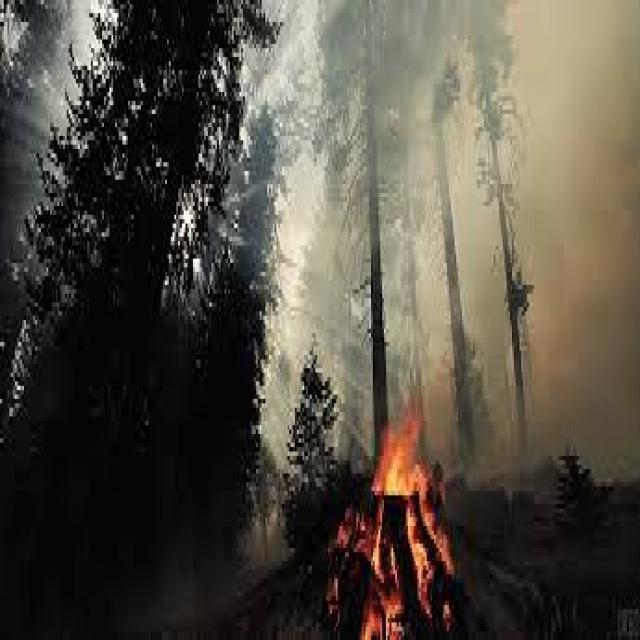Fire: (363, 409, 458, 635), (323, 508, 385, 640)
Smoke: (244, 15, 557, 358), (535, 11, 640, 360), (471, 329, 640, 535), (152, 496, 290, 640)
